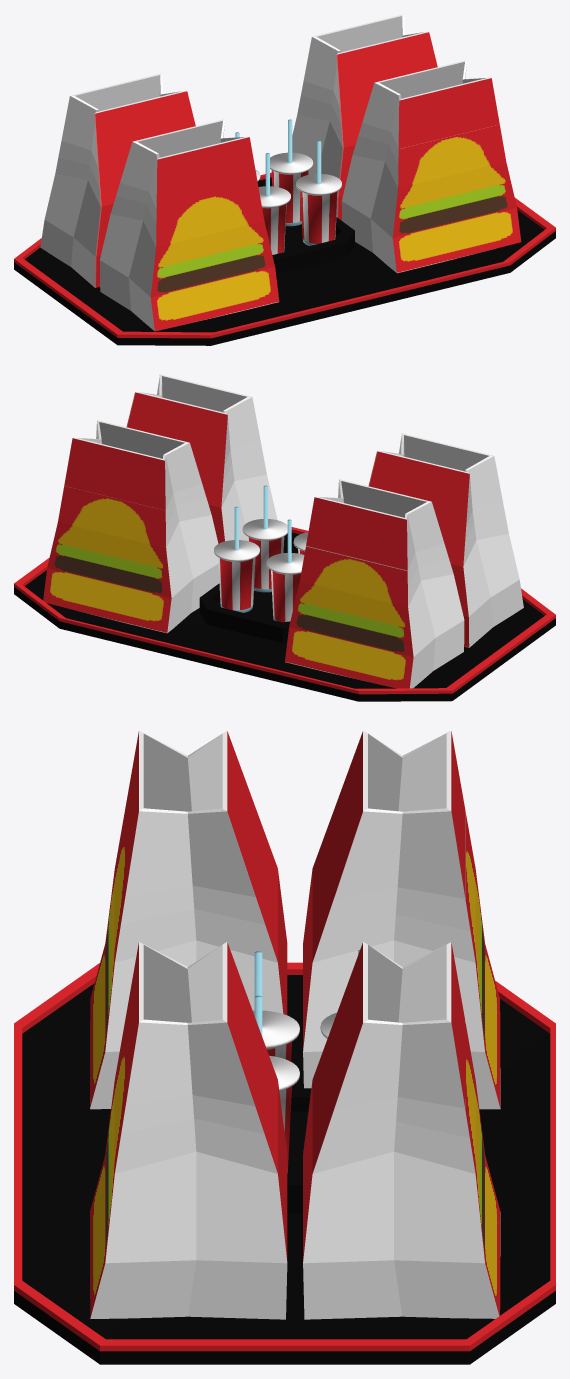
File: burgerMeal.fbx
The picture shows the model from 3 angles, top to bottom: view 1: azimuth 30°, elevation 25°; view 2: azimuth 150°, elevation 25°; view 3: azimuth 270°, elevation 25°; orthographic projection. The views are drawn at different scales.
Visible parts, largest first — view 1: Cube; view 2: Cube; view 3: Cube.
Part boxes in pixels (<box>): Cube: <box>14,14,555,345</box>; Cube: <box>14,374,555,701</box>; Cube: <box>14,730,555,1364</box>.
Bounding box in the file's own units: 192 × 69.18 × 115.
Materials: 1 (1 with a texture image).
